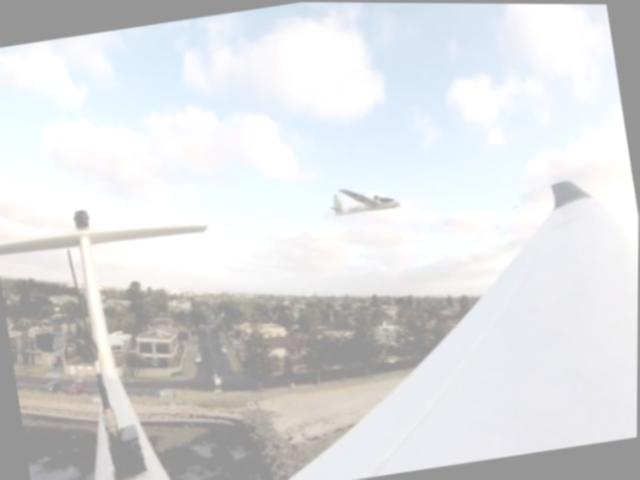uav: (325, 173, 403, 227)
